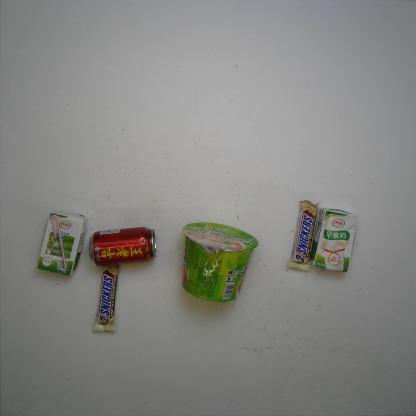Chocolate: (286, 197, 324, 272), (92, 263, 123, 334)
Drink: (86, 224, 160, 268)
Instant Noodles: (179, 220, 260, 304)
Milk: (34, 208, 90, 276), (308, 206, 360, 273)
